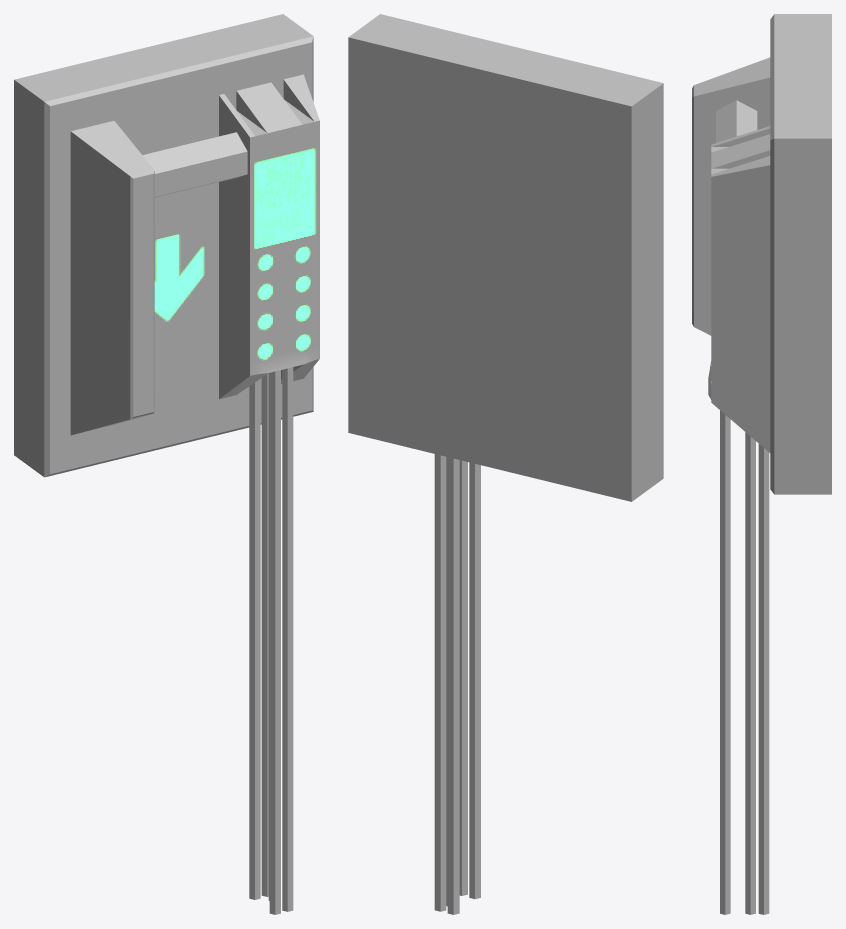
File: Lever_Finished.fbx
The picture shows the model from 3 angles, left to right: view 1: azimuth 30°, elevation 25°; view 2: azimuth 150°, elevation 25°; view 3: azimuth 270°, elevation 25°; orthographic projection. The views are drawn at different scales.
Parts seen in each view (by area): view 1: pCylinder14, pCylinder7; view 2: pCylinder14; view 3: pCylinder14, pCylinder7.
Boxes of the visible parts, <box> form: pCylinder14: <box>14,14,319,914</box>; pCylinder7: <box>142,132,247,197</box>; pCylinder14: <box>348,14,663,914</box>; pCylinder14: <box>692,14,831,914</box>; pCylinder7: <box>716,100,757,142</box>.
Size of the model in its own units: 12 by 35.84 by 5.69.
